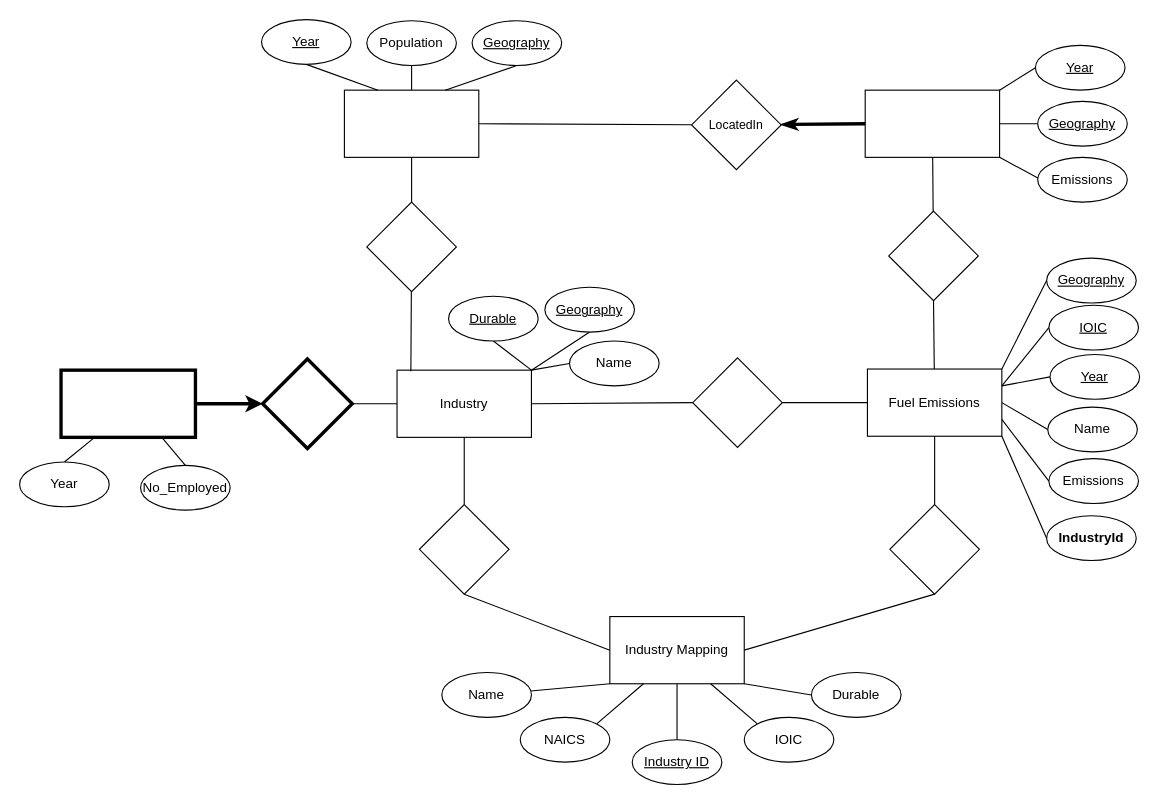
The diagram is 1159 pixels wide and 804 high, and some of its shapes have lost their labels. The shapes that lost their labels are listed below. From the top down, each one's box as (x1, y1, x2, y2) in pixels, then its label:
(343, 89, 479, 157): Province
(864, 89, 1000, 157): Household
(366, 201, 456, 292): Invests In
(888, 210, 978, 301): Produces
(59, 368, 197, 438): Employee
(260, 357, 353, 450): Works in
(692, 357, 782, 447): Generates
(418, 503, 509, 594): Has NAICS Mapping
(889, 503, 979, 594): Has IOIC Mapping
